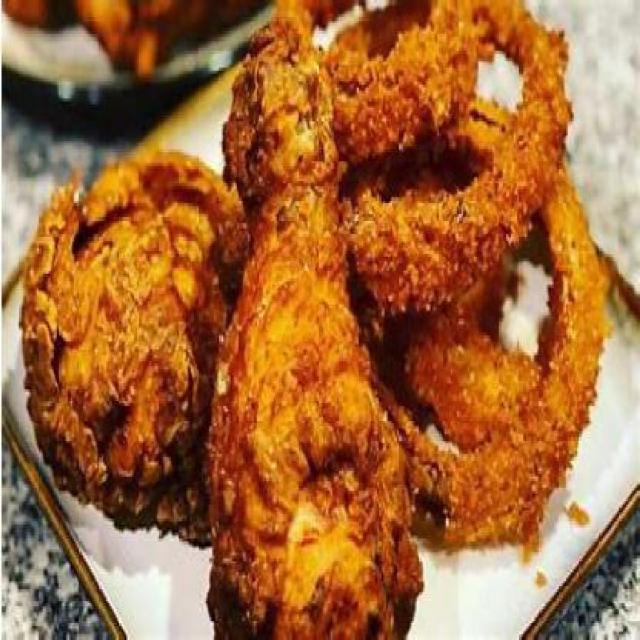chicken wings: (48, 8, 346, 626)
